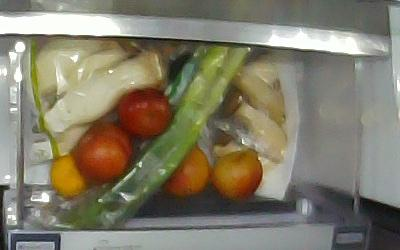prune: (70, 119, 133, 183), (116, 87, 172, 137), (209, 148, 263, 199), (159, 143, 210, 197)
tangerine: (48, 153, 88, 198)
